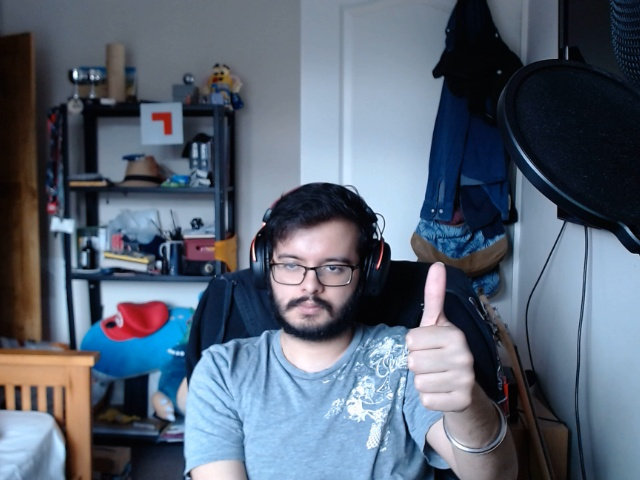Thumbs up: (396, 248, 483, 423)
